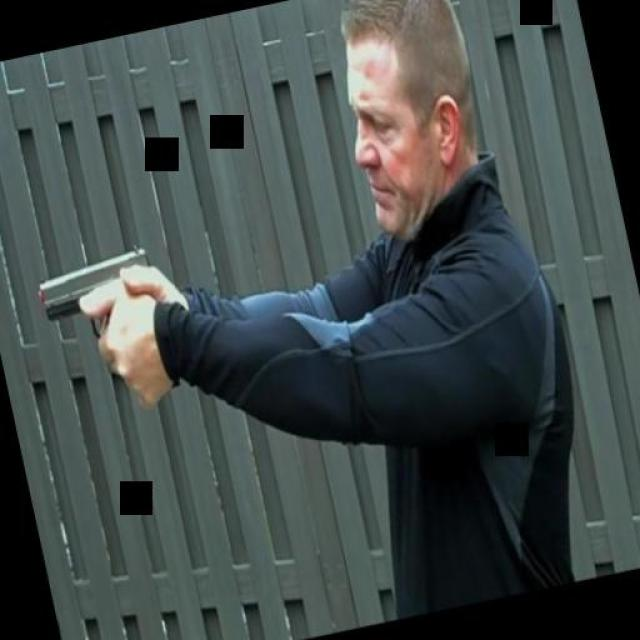gun: (25, 240, 184, 418)
